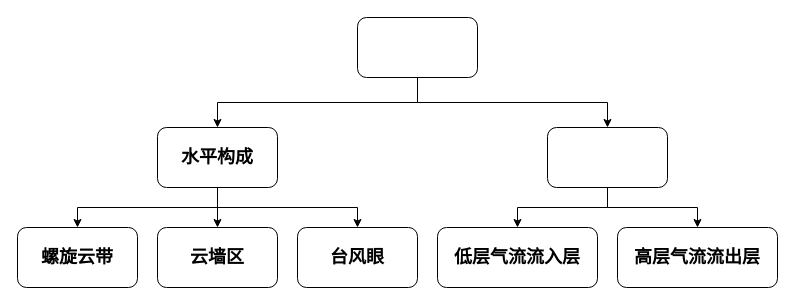
This 795x305 diagram has some shape labels left out. The shapes that lost their labels are listed below. From the top down, each one's centre as x and y in pixels, then its label:
At [417,47]: "台风".
At [607,157]: "垂直构成".
